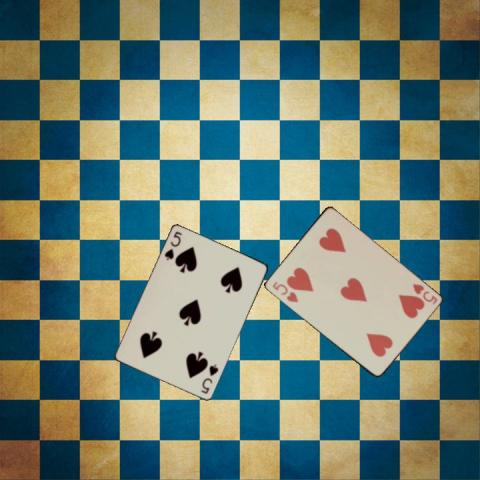5h: (269, 278, 300, 304), (409, 281, 439, 306)
5s: (198, 362, 220, 396), (162, 229, 184, 262)
